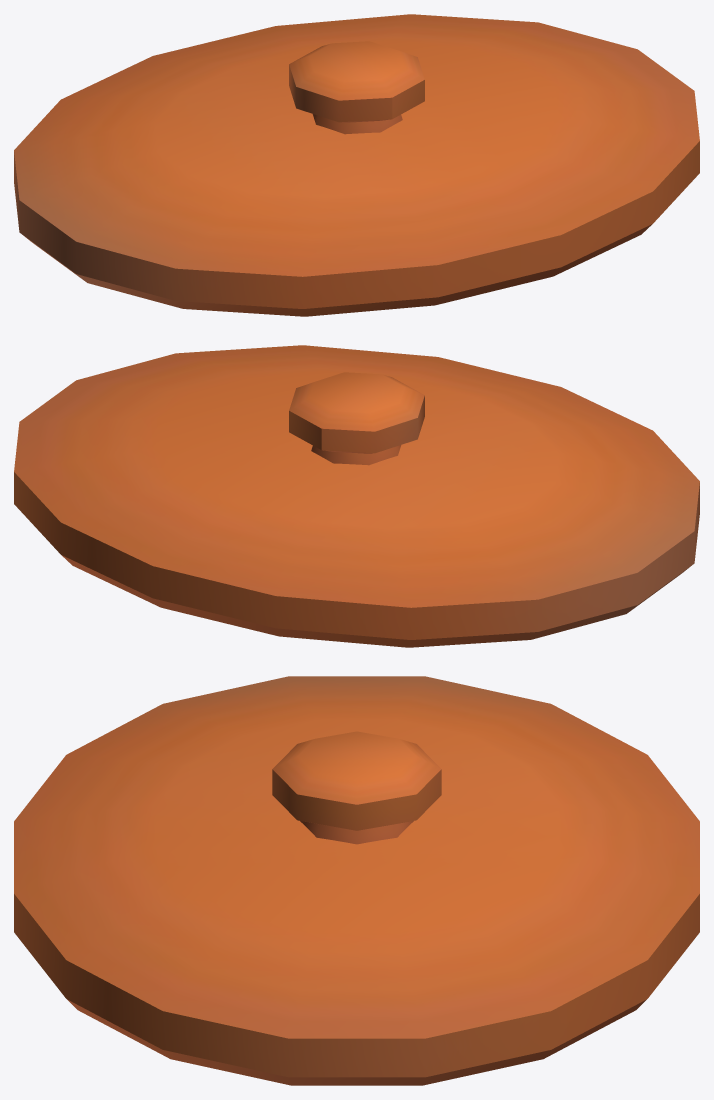
The model's file is kkr.lid_large.glb.
The picture shows the model from 3 angles, top to bottom: view 1: azimuth 30°, elevation 25°; view 2: azimuth 150°, elevation 25°; view 3: azimuth 270°, elevation 25°; orthographic projection. The views are drawn at different scales.
Visible parts, largest first — view 1: lid_large; view 2: lid_large; view 3: lid_large.
Part boxes in pixels (bbox=[...]): lid_large: bbox=[14, 14, 699, 316]; lid_large: bbox=[14, 345, 699, 647]; lid_large: bbox=[14, 676, 699, 1085].
Bounding box in the file's own units: 0.4135 × 0.0827 × 0.3308.
1 material, 1 textured.
